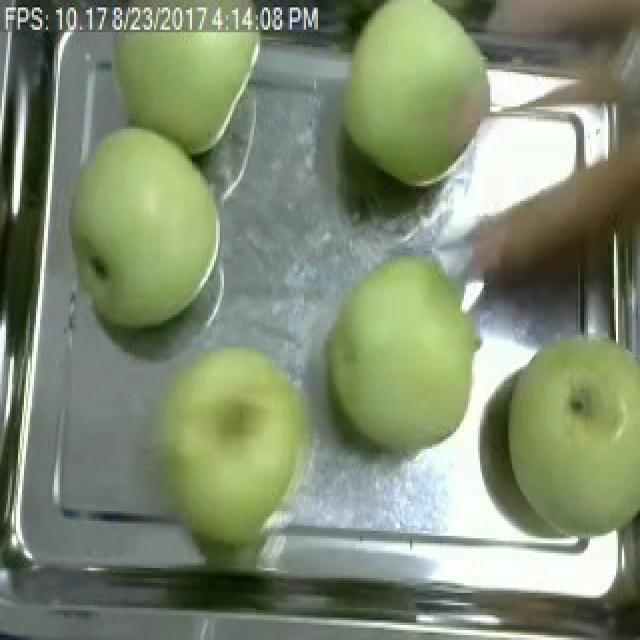50-_ripeness: (62, 131, 225, 314), (330, 259, 484, 442), (347, 1, 497, 177), (510, 344, 640, 538)
